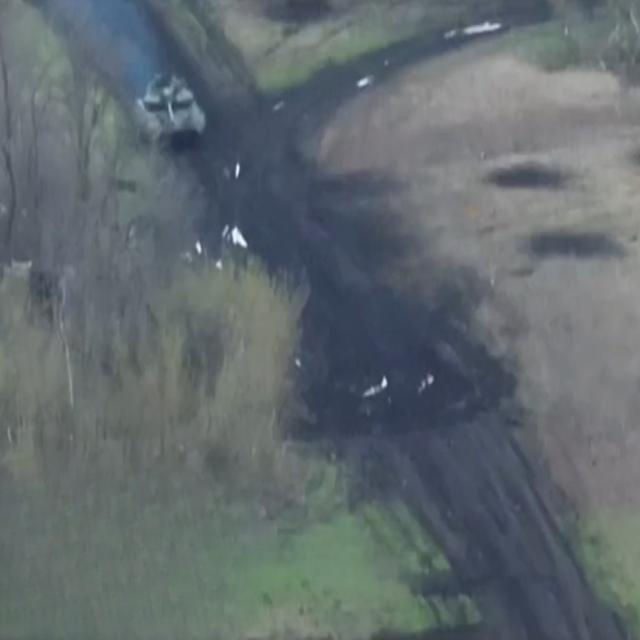MBT: (133, 67, 208, 150)
